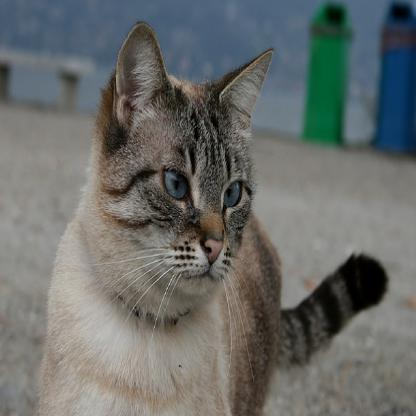cat: (37, 19, 391, 415)
